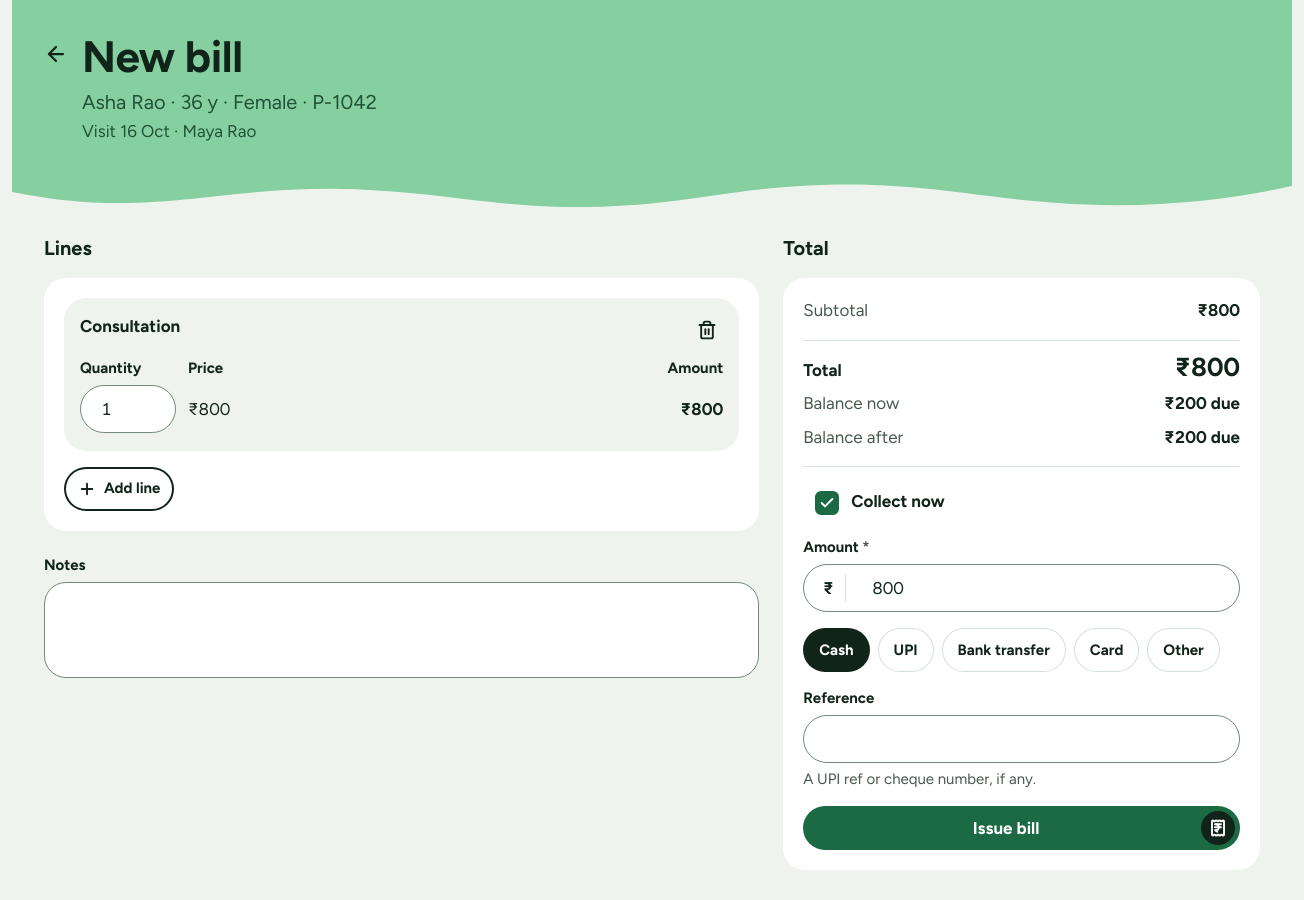
Test: NewBill (plan §15.2; D302 – D313) › refuses to collect nothing, at the amount, and issues nothing
Replace the text in the field labelled "Amount *" with "0": (1022,588) [803,564,1240,612]
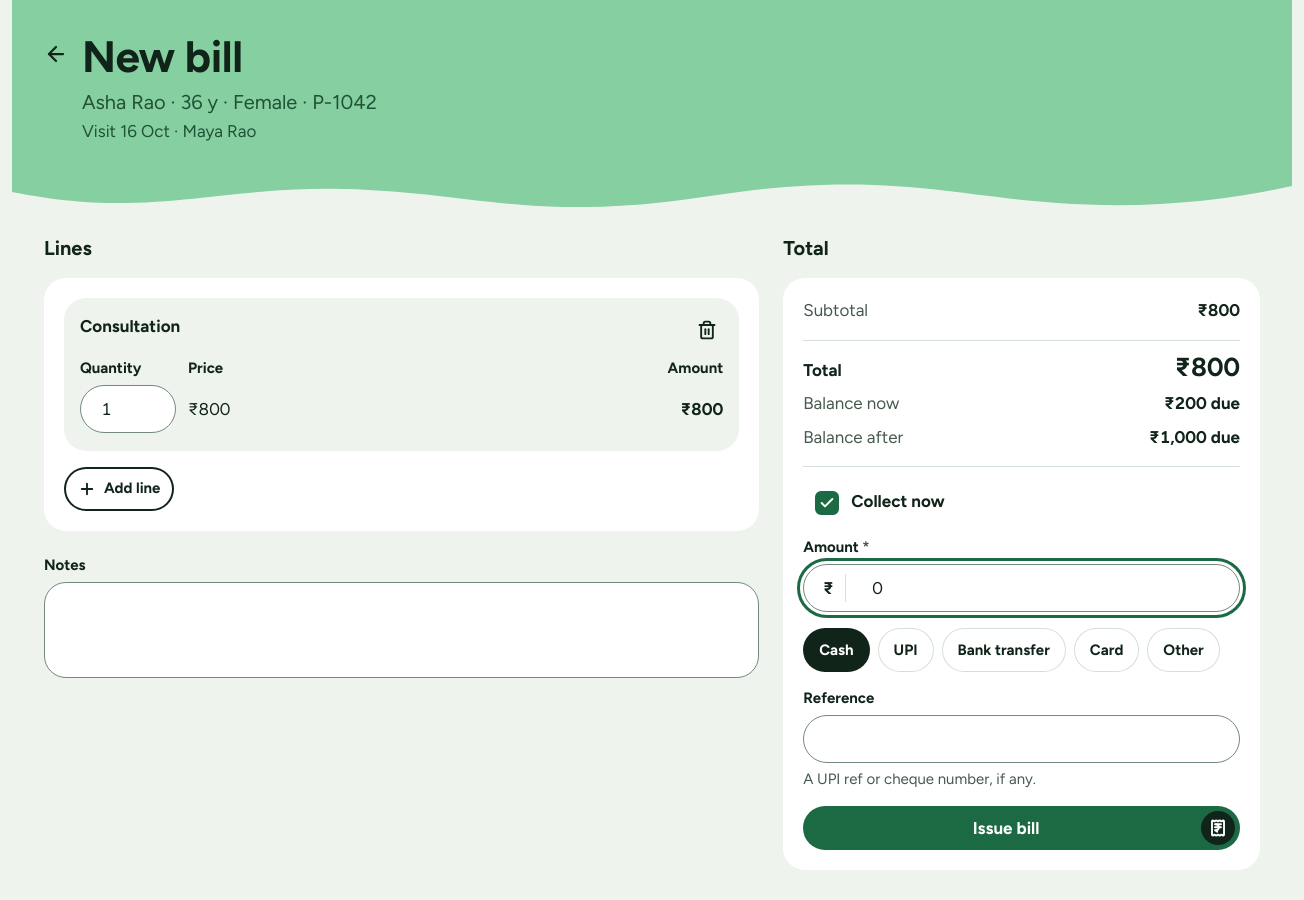
Click the button "Issue bill": (1022,828) [803,806,1240,850]
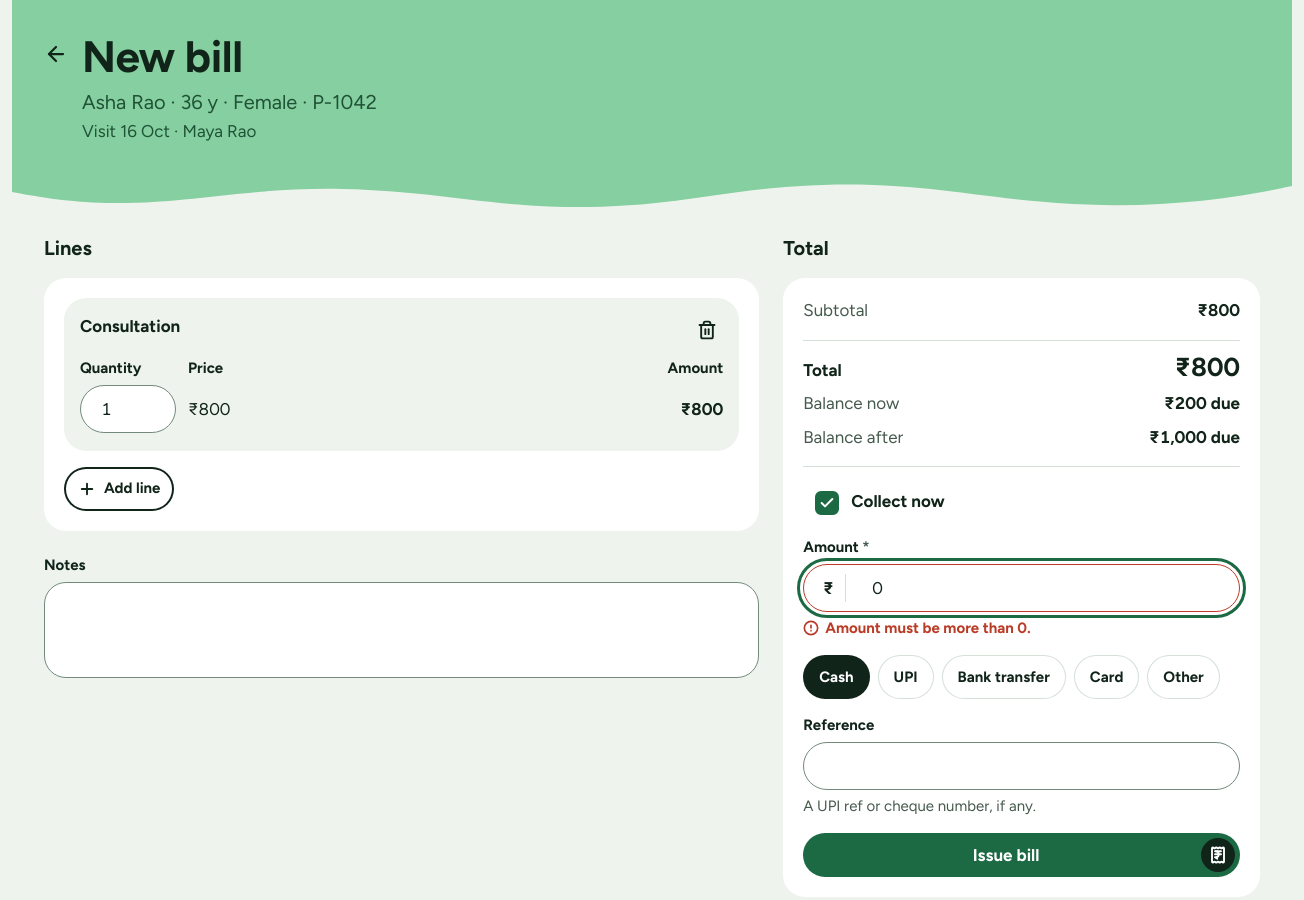
Result: the text "Amount must be more than 0." is shown at [803,619,1031,637]
